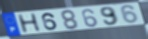6: (120, 4, 141, 25), (80, 8, 99, 28), (41, 12, 58, 31)
8: (61, 9, 80, 31)
9: (100, 6, 122, 27)
H: (16, 13, 43, 35)
